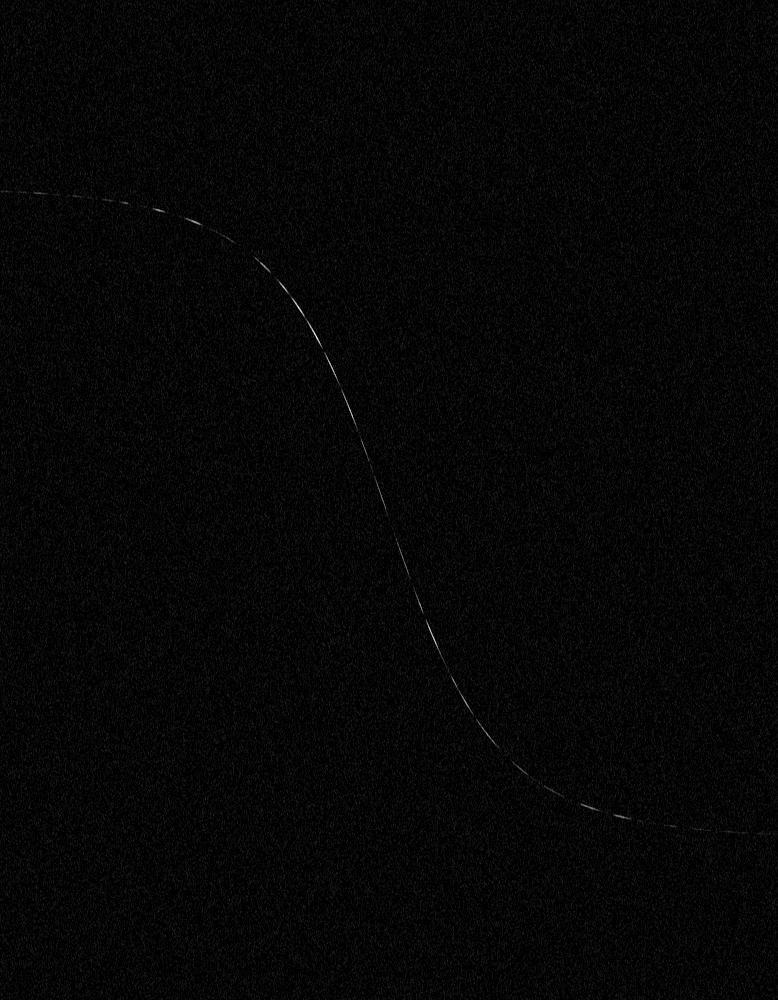signal: (0, 0, 777, 999)
